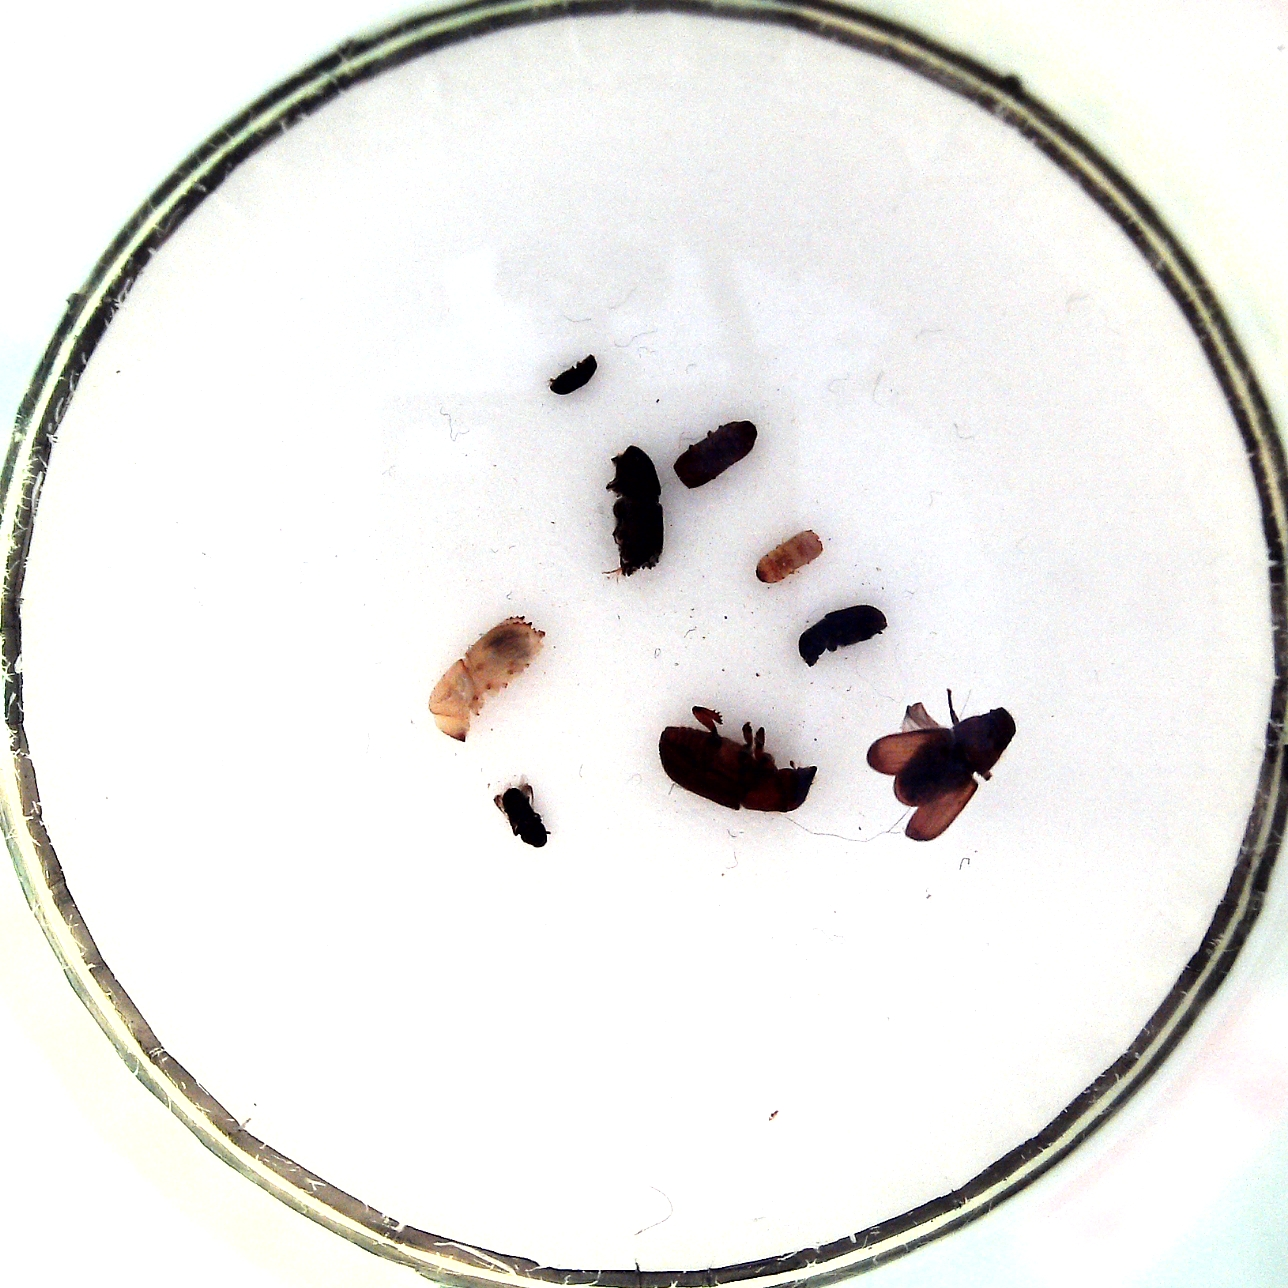Boerner: (423, 607, 548, 745)
Leconte: (862, 678, 1019, 845), (653, 702, 821, 820), (597, 441, 672, 584)
Linnaeus: (669, 415, 764, 494)
acuminatus: (748, 527, 835, 589)
armandi: (791, 600, 894, 666)
coleoptera: (487, 771, 559, 853), (543, 349, 603, 399)
